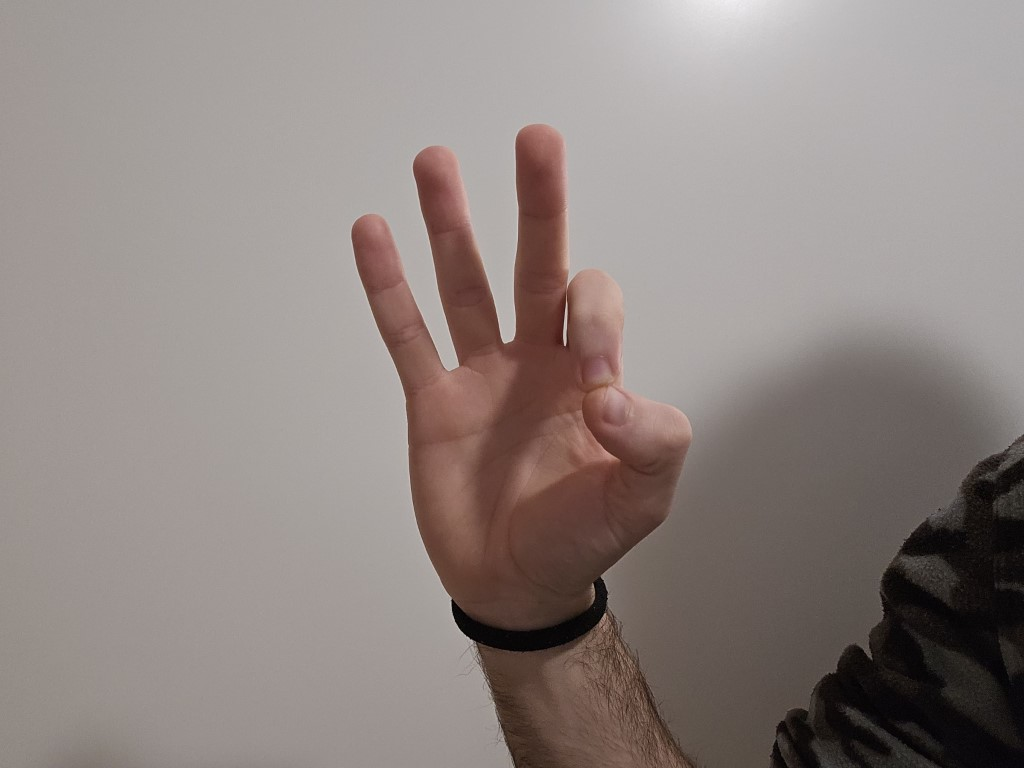f: (309, 115, 709, 590)
